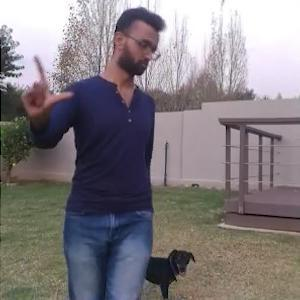land_hand: (16, 50, 73, 117)
